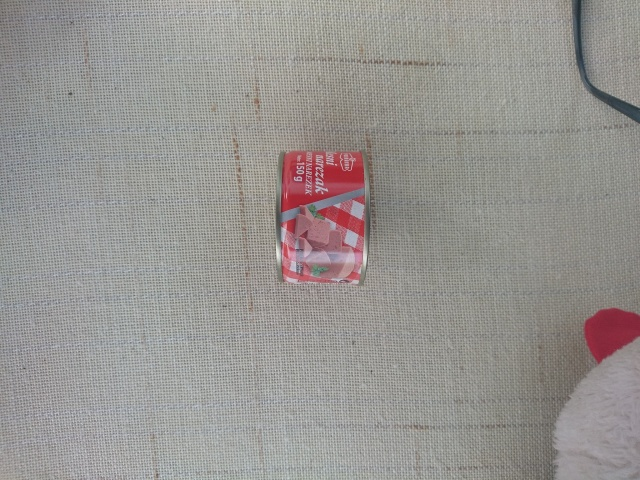Podravka Luncheon Meat 150g: (272, 146, 375, 290)
